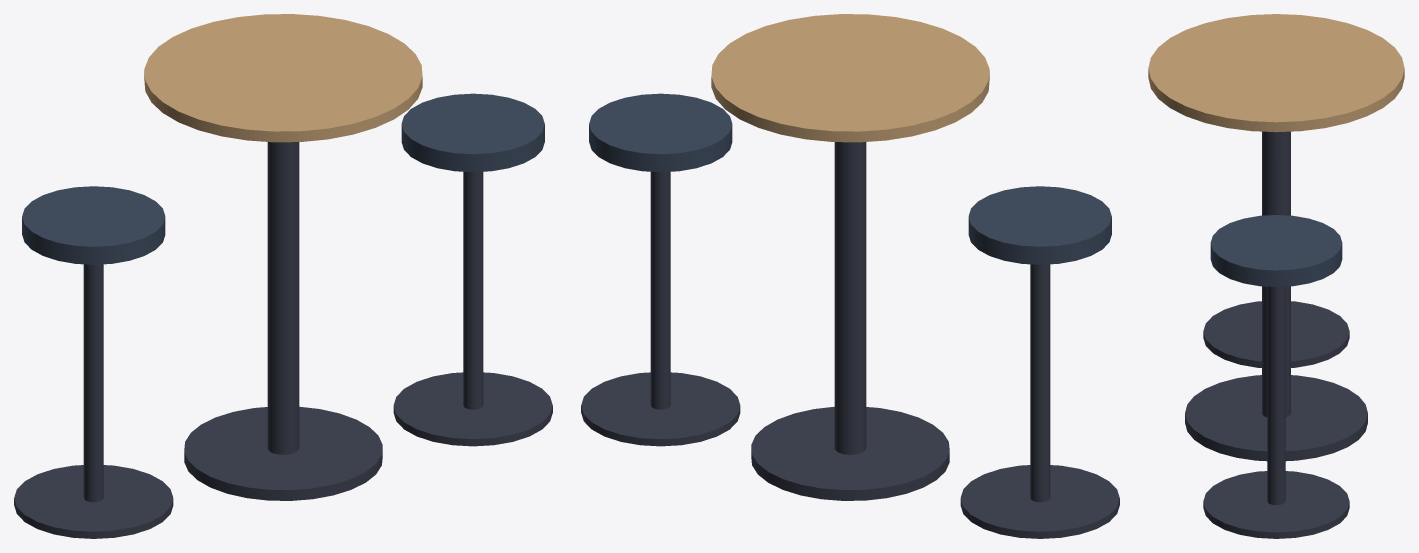
3 views of the same model, side by side, from view 1: azimuth 30°, elevation 25°; view 2: azimuth 150°, elevation 25°; view 3: azimuth 270°, elevation 25° (orthographic). The views are drawn at different scales.
Parts seen in each view (by area): view 1: dark_steel, oak, upholstery; view 2: dark_steel, oak, upholstery; view 3: dark_steel, oak, upholstery.
Part boxes in pixels (bbox=[...]): dark_steel: bbox=[14, 142, 552, 538]; oak: bbox=[144, 14, 422, 142]; upholstery: bbox=[22, 93, 544, 264]; dark_steel: bbox=[581, 142, 1119, 538]; oak: bbox=[711, 14, 989, 142]; upholstery: bbox=[589, 93, 1111, 264]; dark_steel: bbox=[1185, 131, 1367, 538]; oak: bbox=[1148, 14, 1404, 132]; upholstery: bbox=[1210, 215, 1342, 286].
Bounding box in the file's own units: 1.5 × 1.07 × 0.7.
